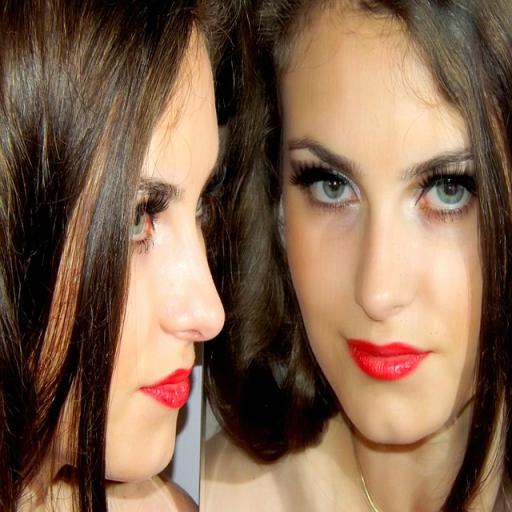lipstick: (348, 340, 429, 380), (141, 368, 191, 408)
